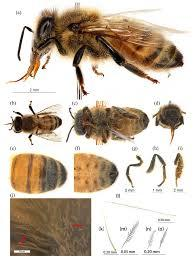Apis-mellifera-scutellata: (14, 6, 188, 96), (68, 97, 148, 143), (3, 101, 67, 146), (9, 151, 68, 194), (71, 150, 120, 194)
